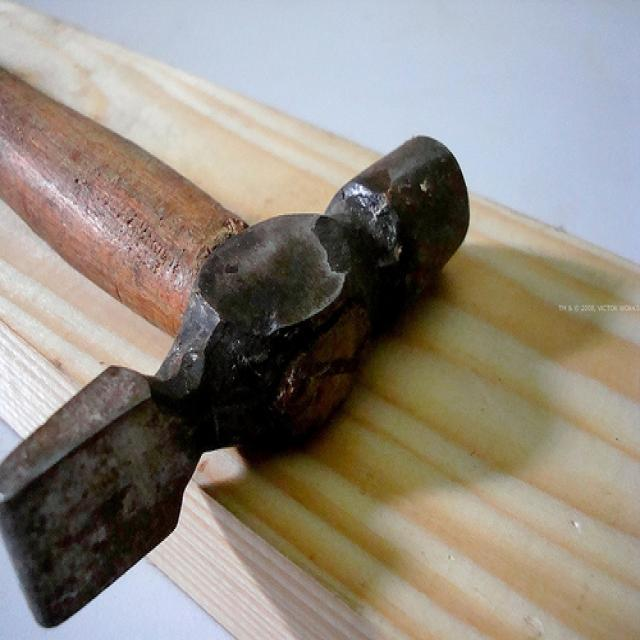hammer: (0, 20, 476, 640)
